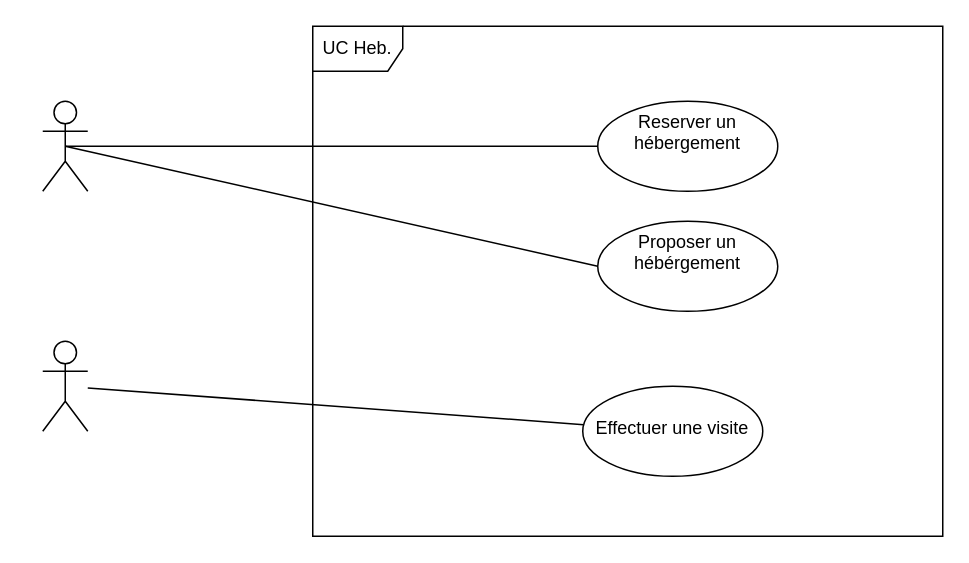
Some shapes in this 969 by 563 pixel diagram are drawn without their labels. Each missing label, with the centre of its shape:
"Guide" belongs at (64,385).
"Particulier" belongs at (64,145).
